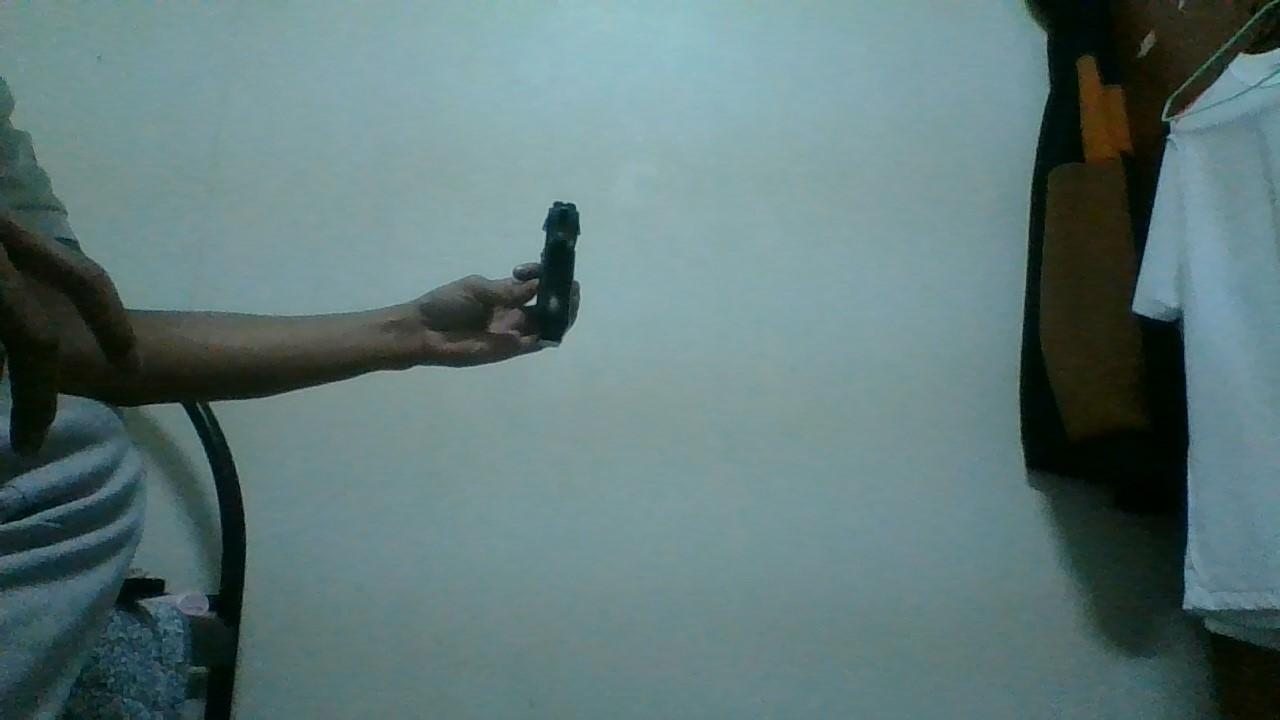weapon: (528, 190, 584, 352)
